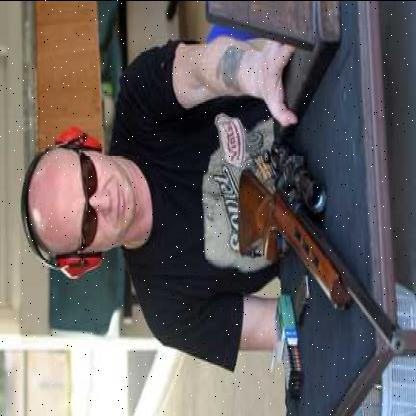rifle: (218, 135, 415, 364)
